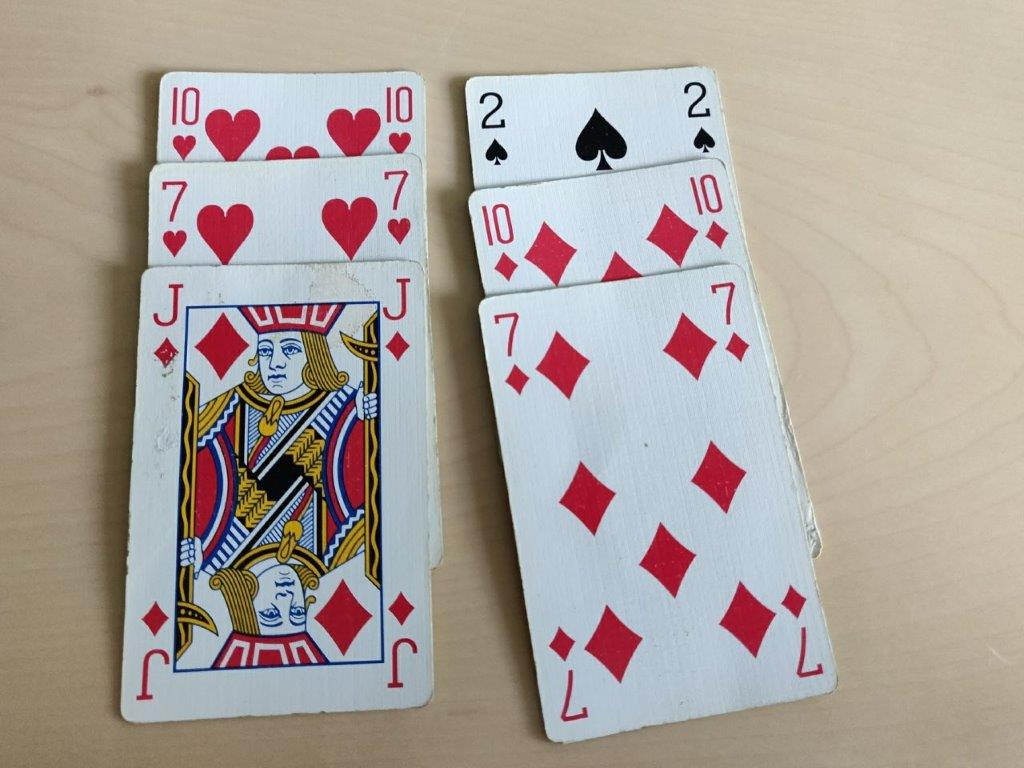10D: (476, 201, 522, 283), (686, 170, 732, 252)
10H: (160, 77, 205, 163), (377, 70, 422, 156)
2S: (473, 85, 516, 167), (675, 74, 718, 156)
7D: (488, 304, 532, 401), (708, 277, 752, 374)
7H: (154, 173, 195, 263), (379, 163, 420, 253)
JD: (141, 276, 185, 376), (377, 272, 421, 372)
